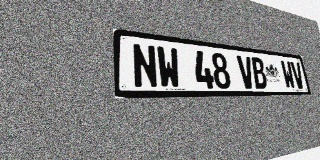4: (193, 50, 215, 88)
8: (210, 52, 231, 89)
B: (250, 57, 268, 89)
N: (131, 43, 159, 88)
V: (236, 55, 256, 89), (290, 61, 305, 89)
W: (156, 46, 181, 88), (280, 60, 296, 89)
